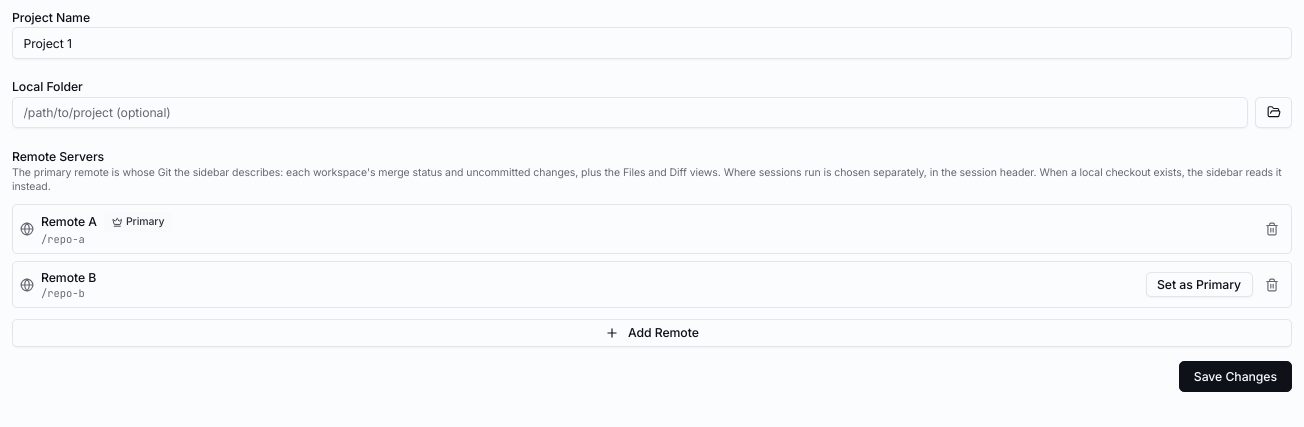
Test case: ProjectSettingsForm primary remote › shows an error and does not refresh when promotion fails
The width and height of the screenshot is (1304, 427).
Click the button "Set as Primary".
click(1199, 285)  # box 1146,272 -> 1252,297
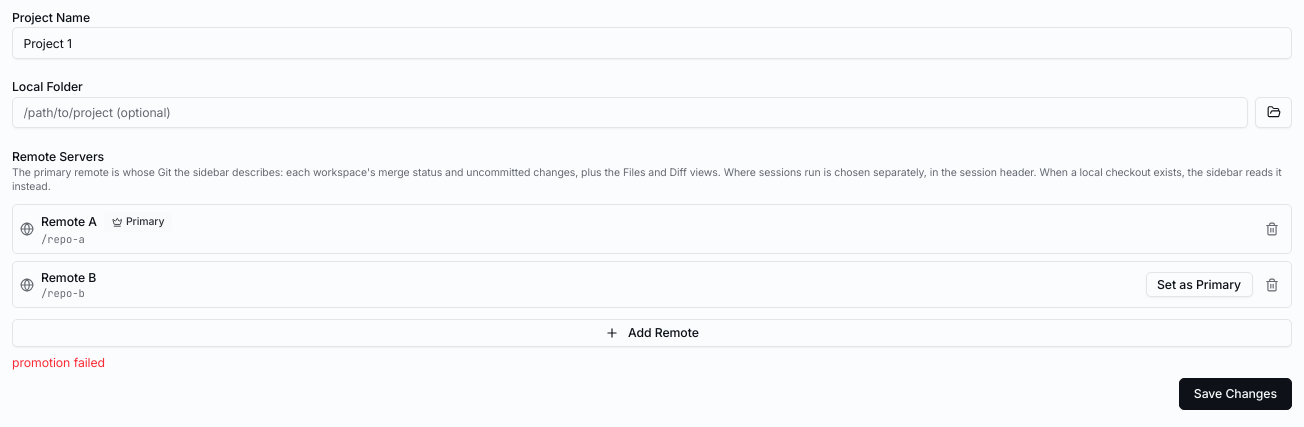
Now the text "promotion failed" is shown, box 12,355 -> 105,370
